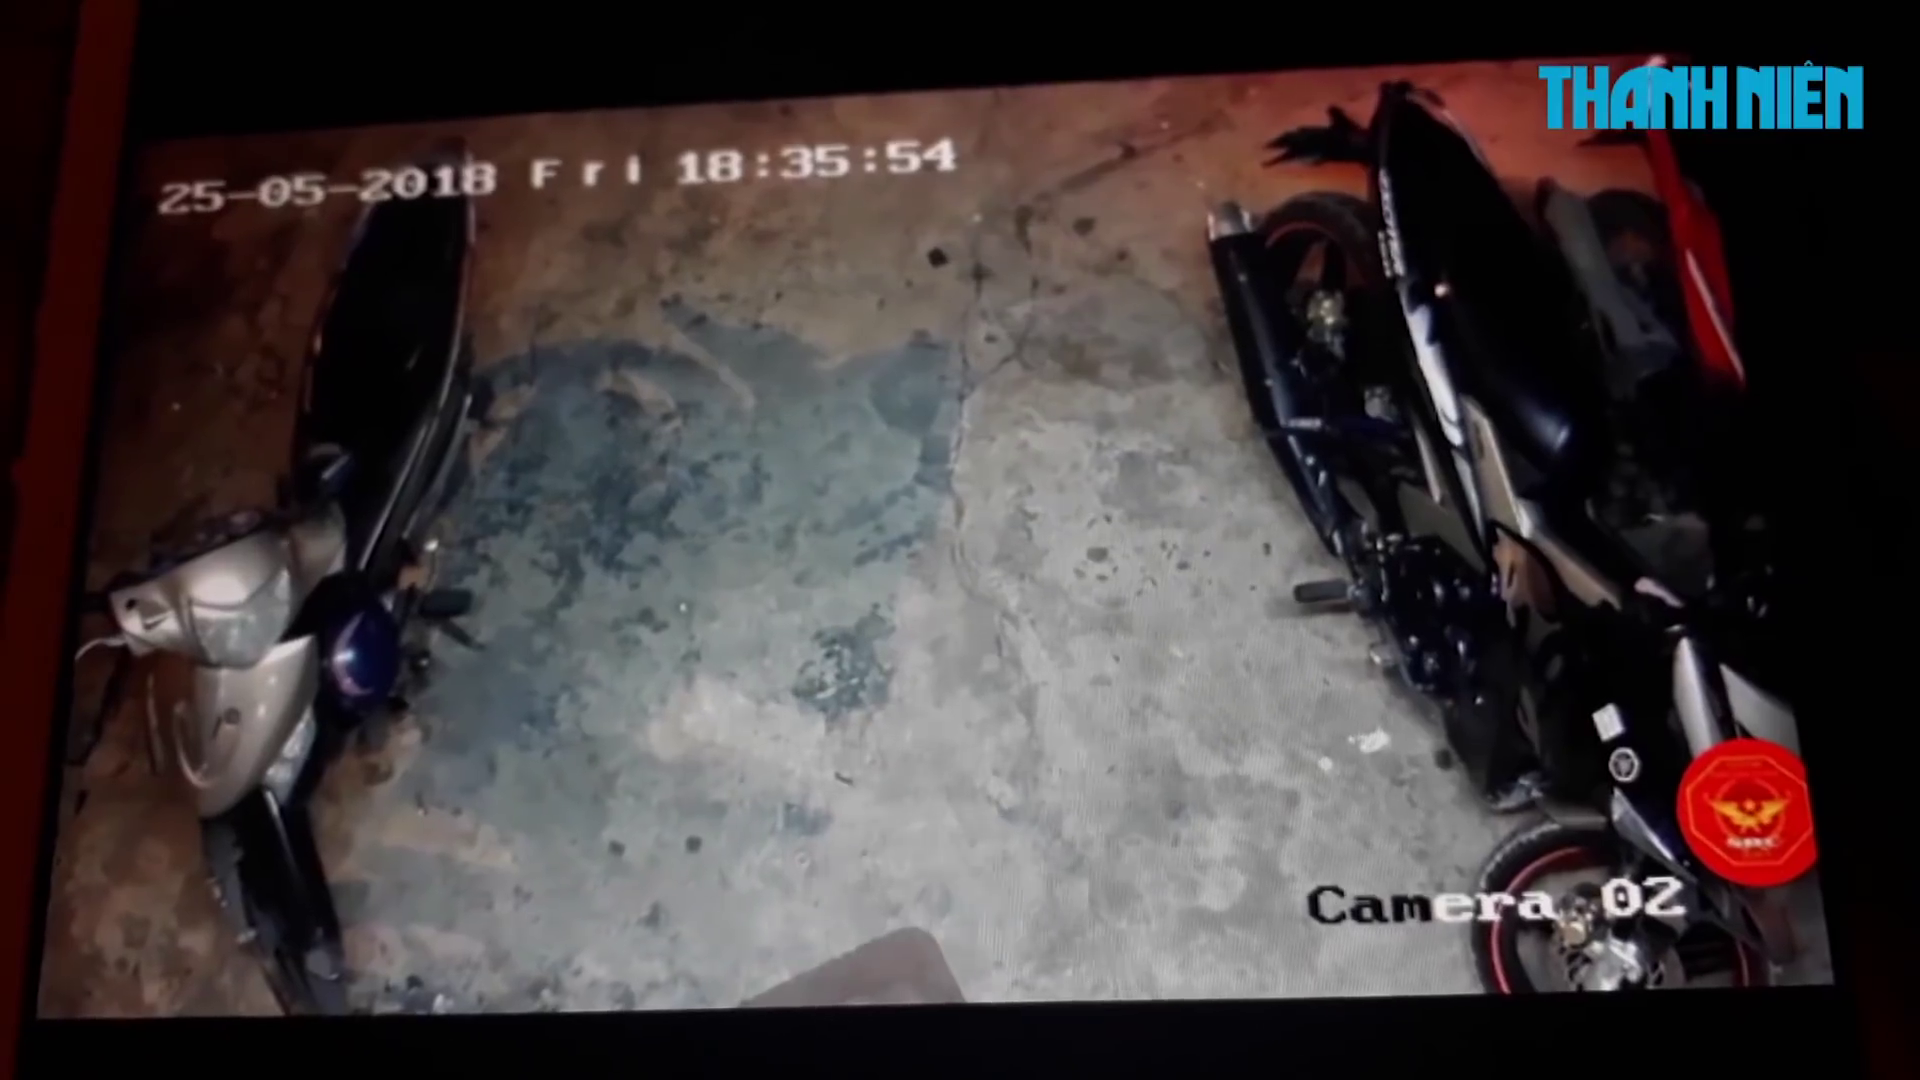Motorcycle: (1204, 78, 1840, 1000)
